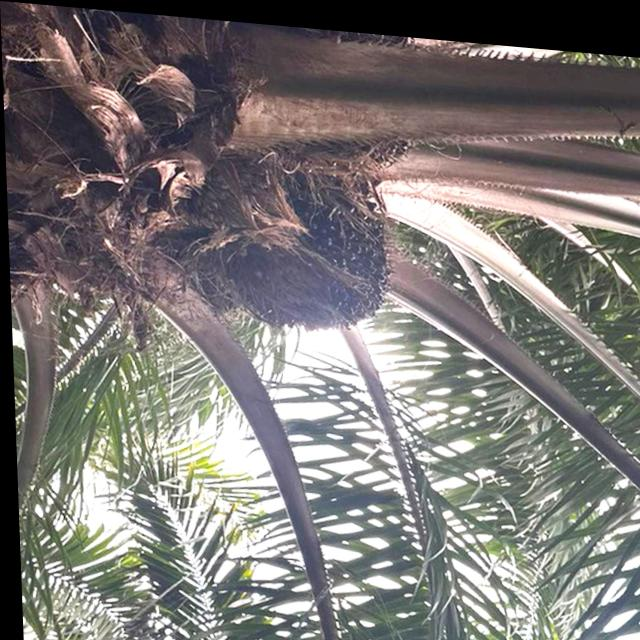unripe: (218, 159, 395, 333)
